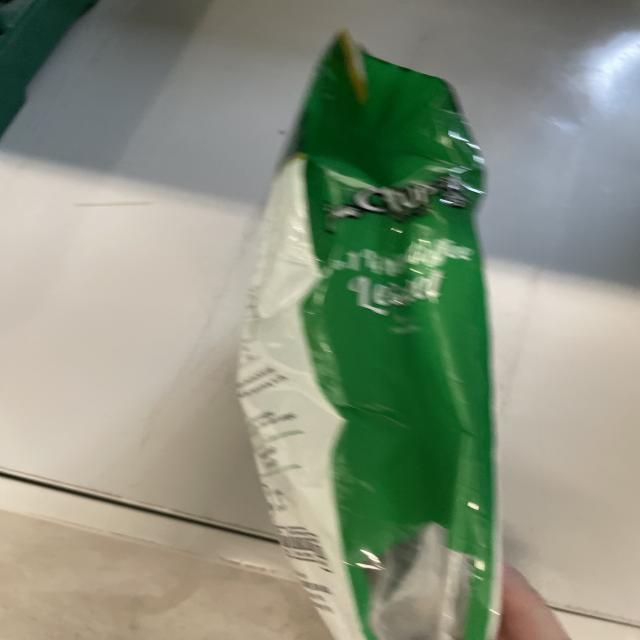object_name: (235, 52, 503, 640)
